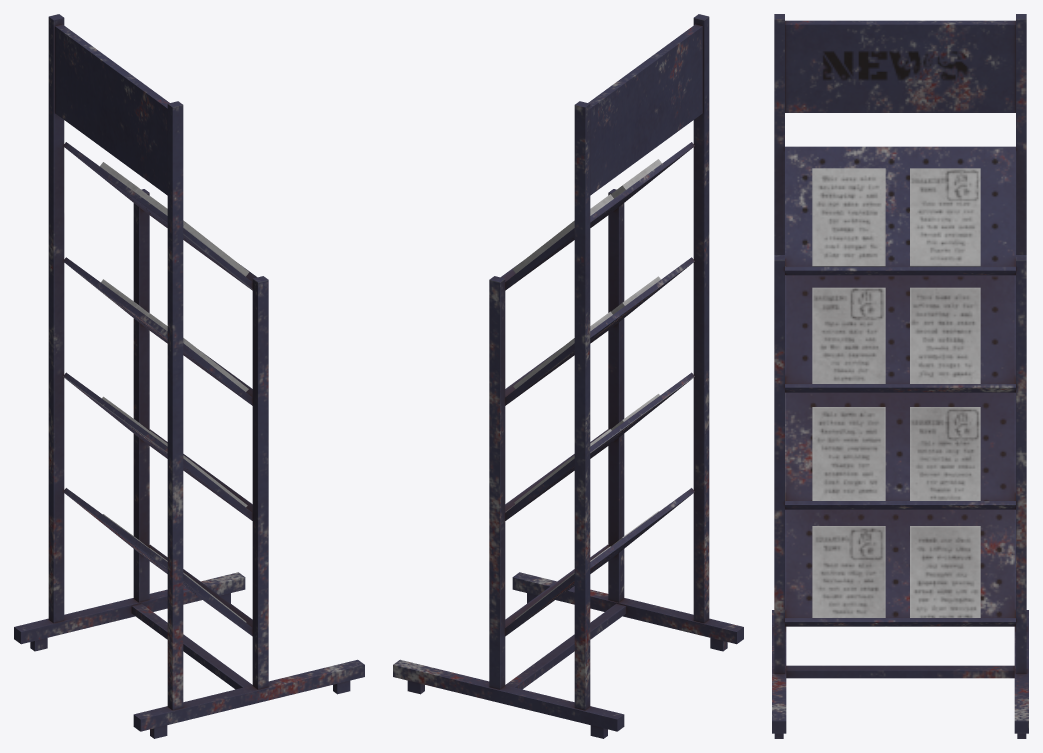
The model's file is NewsShelf.fbx.
3 views of the same model, side by side, from view 1: azimuth 30°, elevation 25°; view 2: azimuth 150°, elevation 25°; view 3: azimuth 270°, elevation 25° (orthographic).
Parts seen in each view (by area): view 1: NewsShelf; view 2: NewsShelf; view 3: NewsShelf.
Part boxes in pixels (x1,y1,x2,y2): NewsShelf: [14, 14, 364, 738]; NewsShelf: [393, 14, 743, 738]; NewsShelf: [772, 14, 1028, 738].
Size of the model in its own units: 74.62 by 199 by 72.84.
